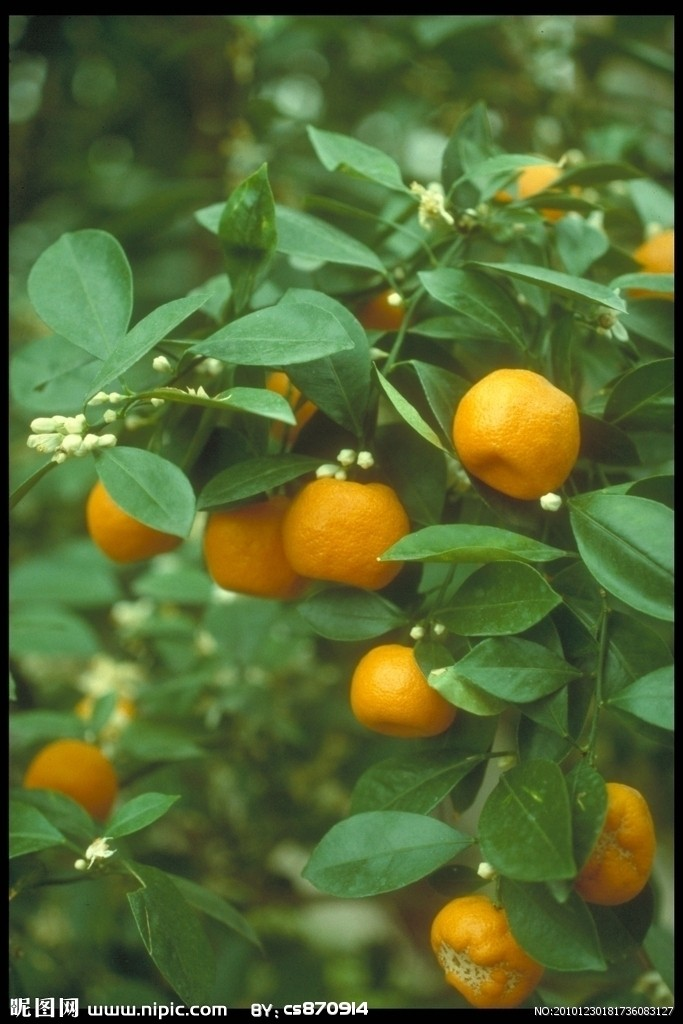orange: (450, 366, 586, 503), (542, 780, 653, 911), (286, 480, 407, 595), (430, 888, 544, 1001), (348, 638, 456, 744), (199, 494, 305, 597), (89, 473, 194, 565), (27, 733, 117, 824)
